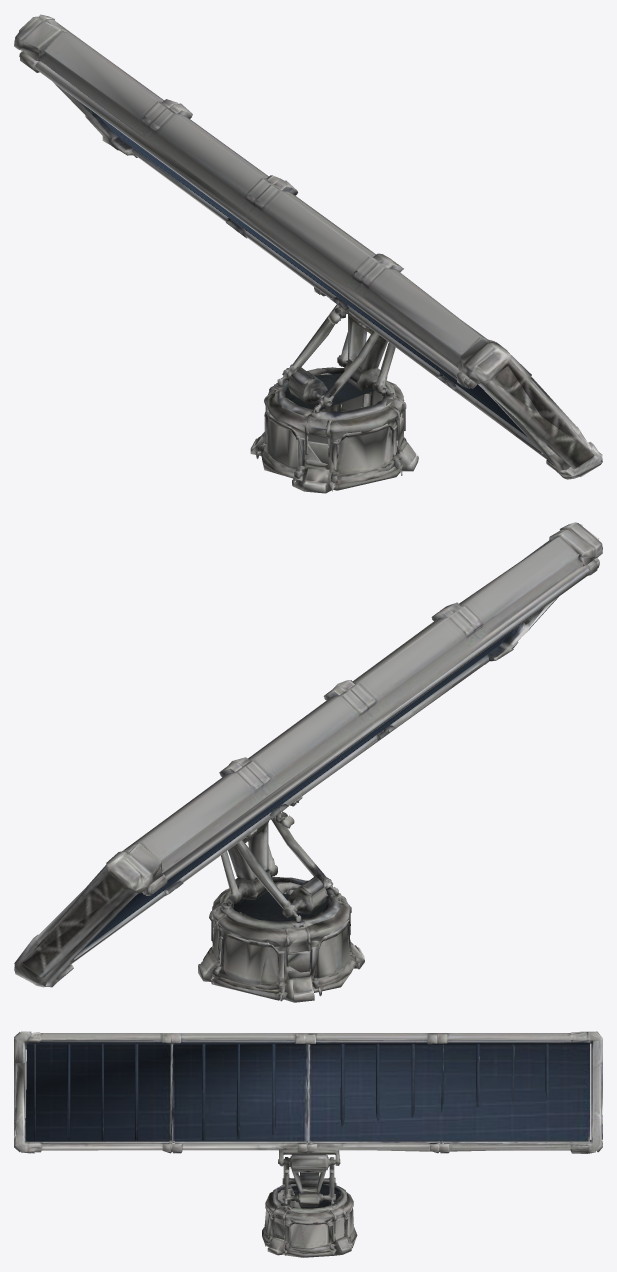
The model's file is solarWing.glb.
The picture shows the model from 3 angles, top to bottom: view 1: azimuth 30°, elevation 25°; view 2: azimuth 150°, elevation 25°; view 3: azimuth 270°, elevation 25°; orthographic projection. The views are drawn at different scales.
Visible parts, largest first — view 1: tripo_node_b40b0516-6850-43bd-9cc1-964516adc59d; view 2: tripo_node_b40b0516-6850-43bd-9cc1-964516adc59d; view 3: tripo_node_b40b0516-6850-43bd-9cc1-964516adc59d.
Boxes of the visible parts, x1=… form: tripo_node_b40b0516-6850-43bd-9cc1-964516adc59d: x1=14, y1=14, x2=602, y2=493; tripo_node_b40b0516-6850-43bd-9cc1-964516adc59d: x1=14, y1=522, x2=602, y2=1002; tripo_node_b40b0516-6850-43bd-9cc1-964516adc59d: x1=14, y1=1031, x2=602, y2=1257.
Bounding box in the file's own units: 0.1973 × 0.3457 × 0.998.
1 material, 1 textured.
